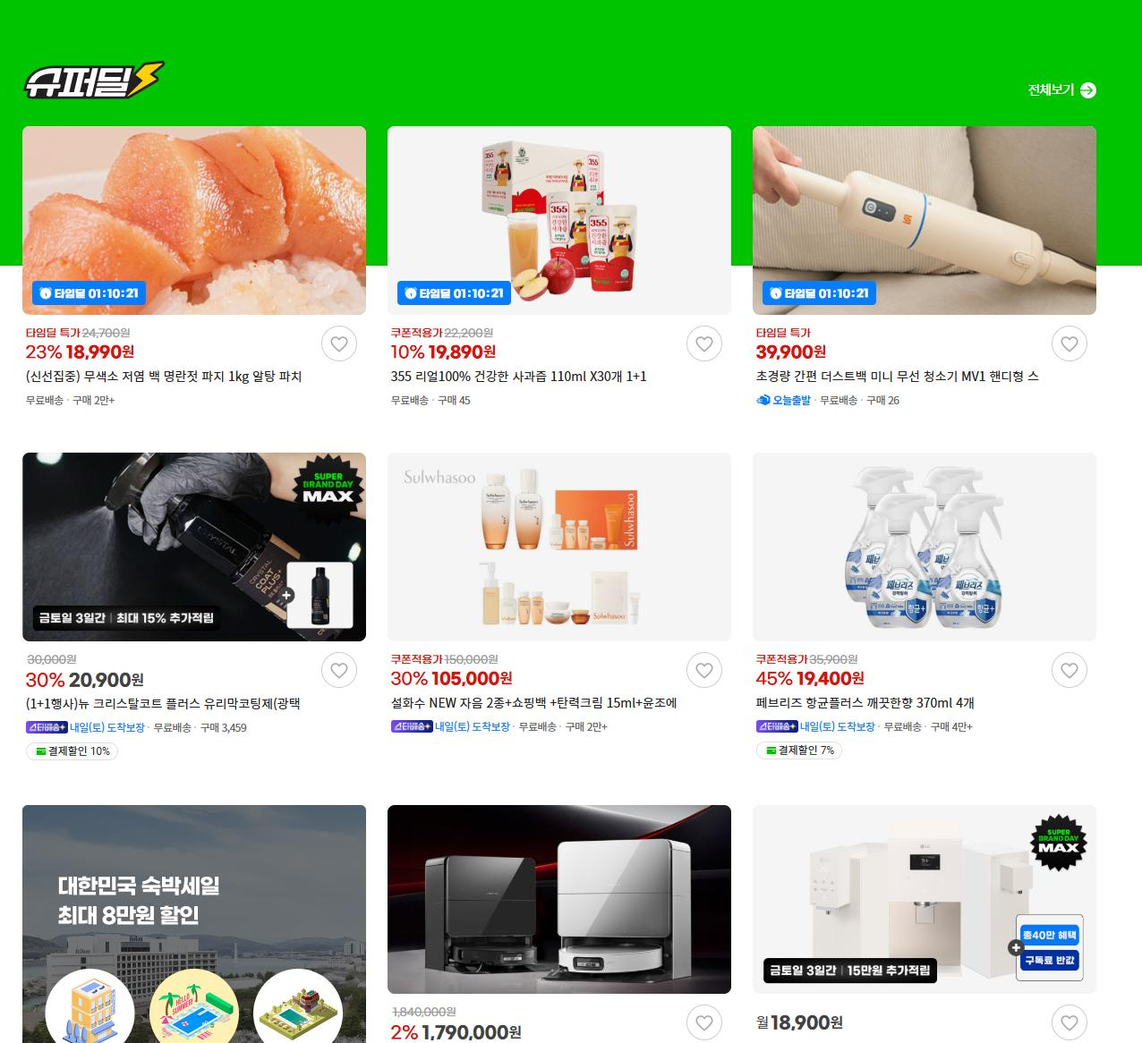button: (1048, 320, 1091, 364), (1051, 646, 1091, 691), (683, 320, 724, 363), (685, 649, 726, 691), (321, 649, 362, 691), (1022, 80, 1102, 101), (1052, 1003, 1090, 1043), (321, 323, 360, 361), (686, 1006, 726, 1043)
